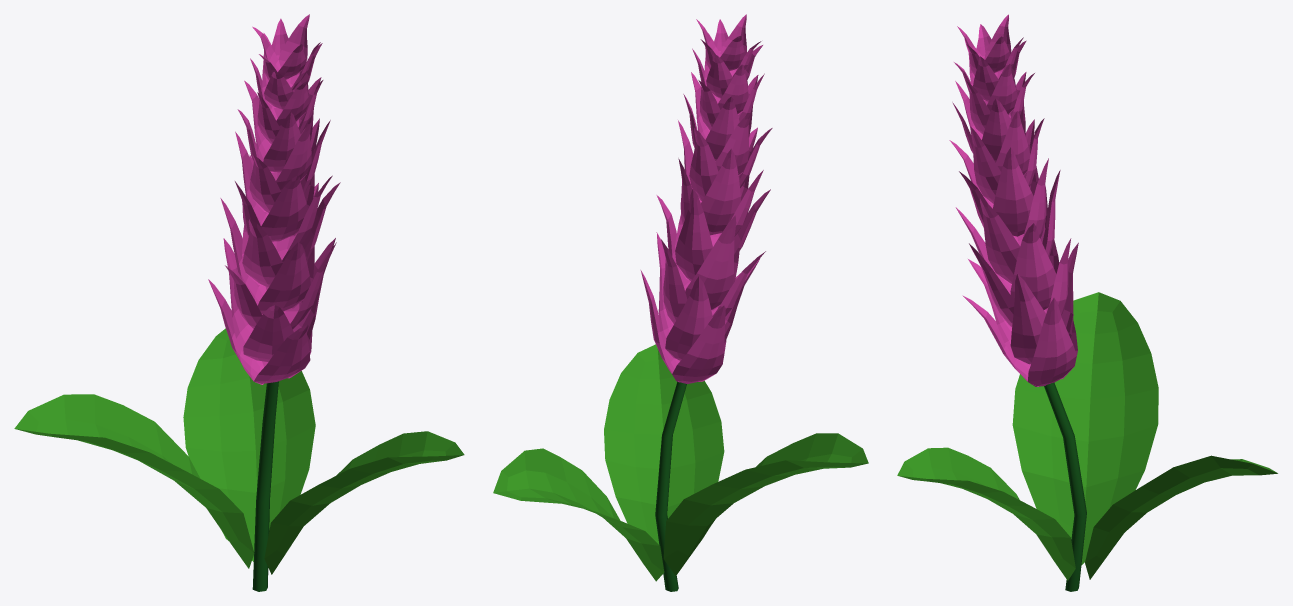
The model's file is flower 2.fbx.
3 renders of one model, left to right at view 1: azimuth 30°, elevation 25°; view 2: azimuth 150°, elevation 25°; view 3: azimuth 270°, elevation 25°, orthographic. The views are drawn at different scales.
Parts seen in each view (by area): view 1: Flower.031; view 2: Flower.031; view 3: Flower.031.
Part boxes in pixels (x1,y1,x2,y2): Flower.031: (14, 14, 464, 591); Flower.031: (493, 14, 868, 591); Flower.031: (897, 14, 1277, 591).
Size of the model in its own units: 1.96 by 3.22 by 1.99.
